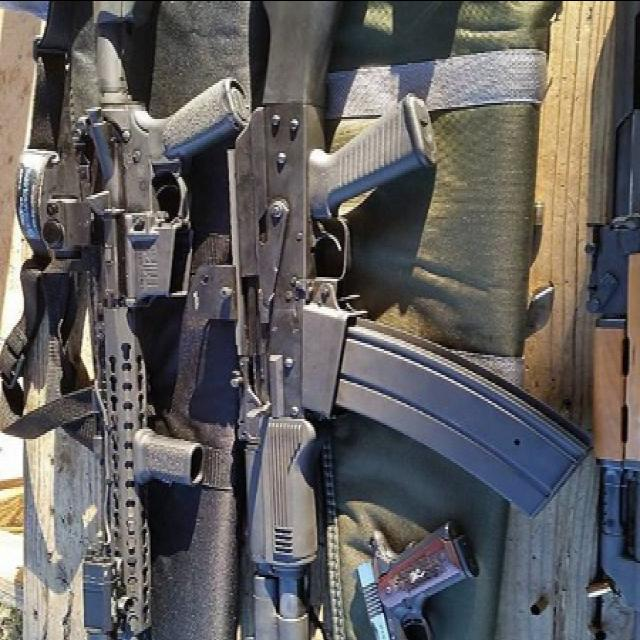rifle: (226, 3, 572, 639), (19, 5, 223, 639)
